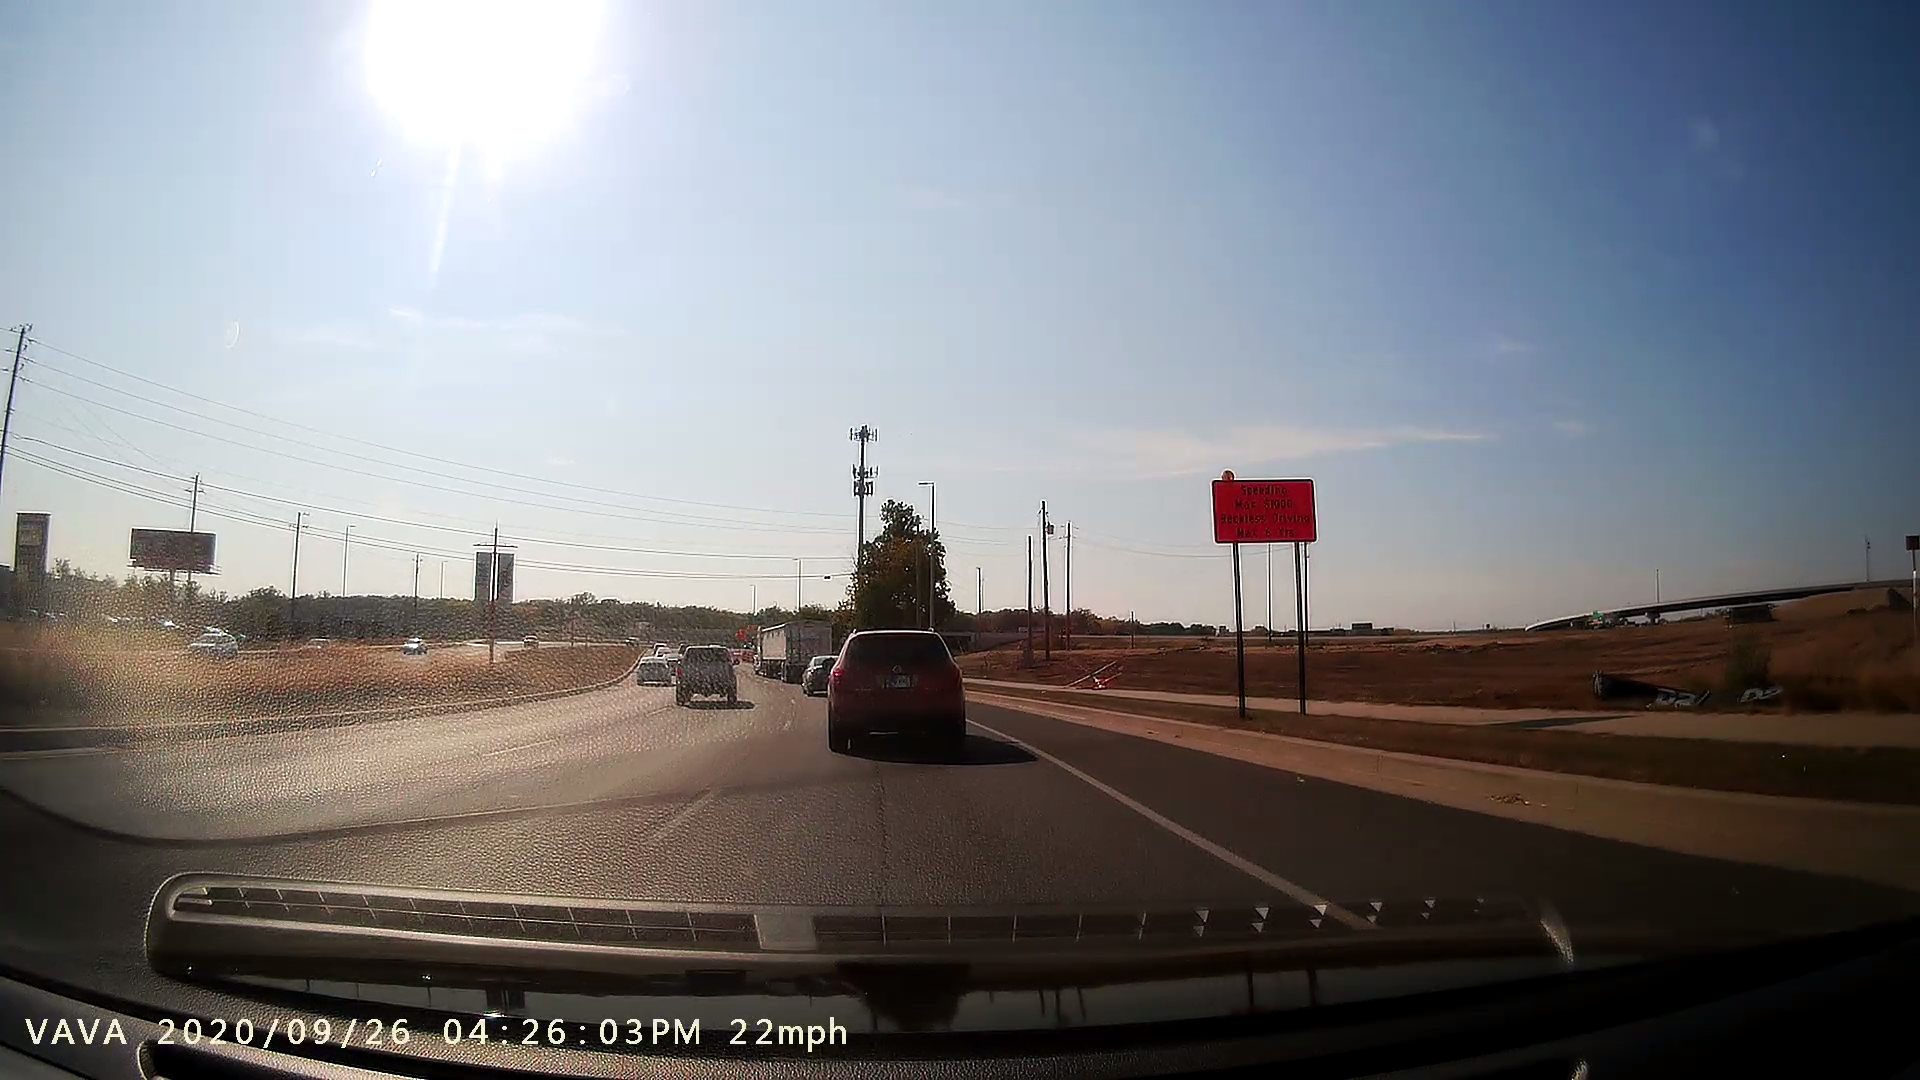temperary_sign: (1208, 459, 1327, 721)
